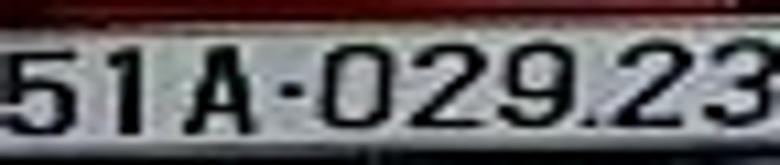-: (276, 82, 306, 99)
.: (581, 115, 597, 128)
0: (320, 42, 388, 129)
1: (109, 42, 144, 138)
2: (618, 38, 683, 130), (409, 44, 481, 127)
3: (706, 37, 778, 125)
5: (0, 49, 78, 135)
9: (501, 41, 573, 128)
A: (183, 41, 256, 134)
